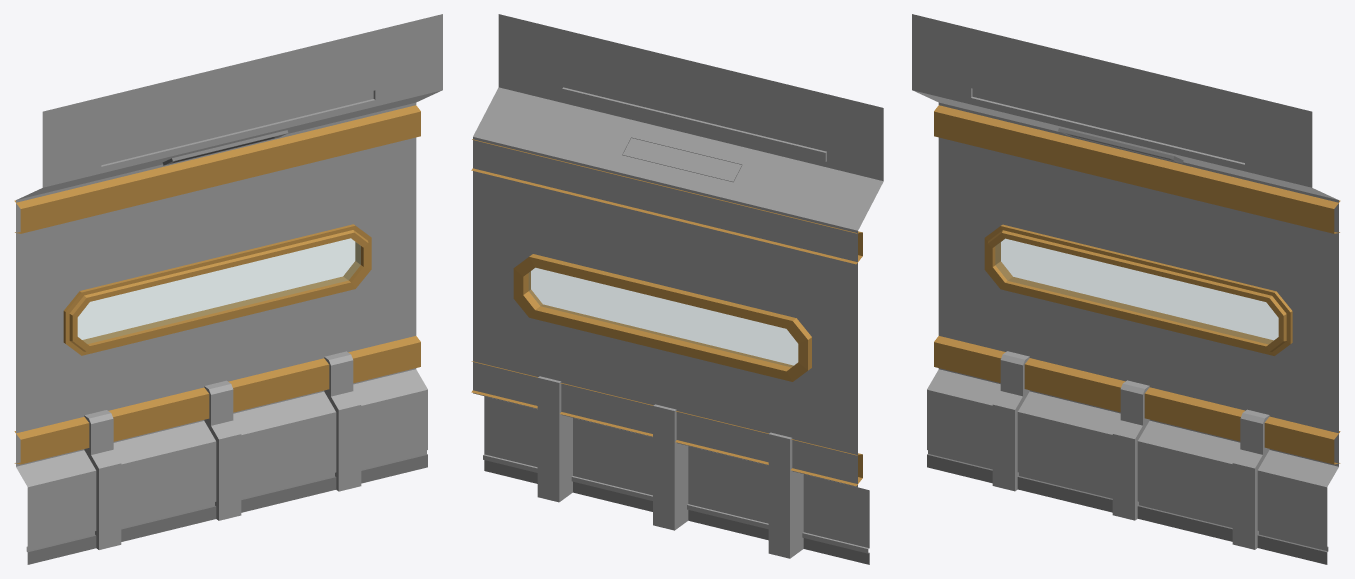
The model's file is LongWindow_Wall_SideB.gltf.
The picture shows the model from 3 angles, left to right: view 1: azimuth 30°, elevation 25°; view 2: azimuth 150°, elevation 25°; view 3: azimuth 330°, elevation 25°; orthographic projection. The views are drawn at different scales.
Visible parts, largest first — view 1: LongWindow_Wall_SideB; view 2: LongWindow_Wall_SideB; view 3: LongWindow_Wall_SideB.
Boxes of the visible parts, x1,y1,x2,y2 form: LongWindow_Wall_SideB: [14, 14, 442, 564]; LongWindow_Wall_SideB: [471, 14, 883, 564]; LongWindow_Wall_SideB: [912, 14, 1340, 564].
Size of the model in its own units: 4 by 4.43 by 0.5355.
